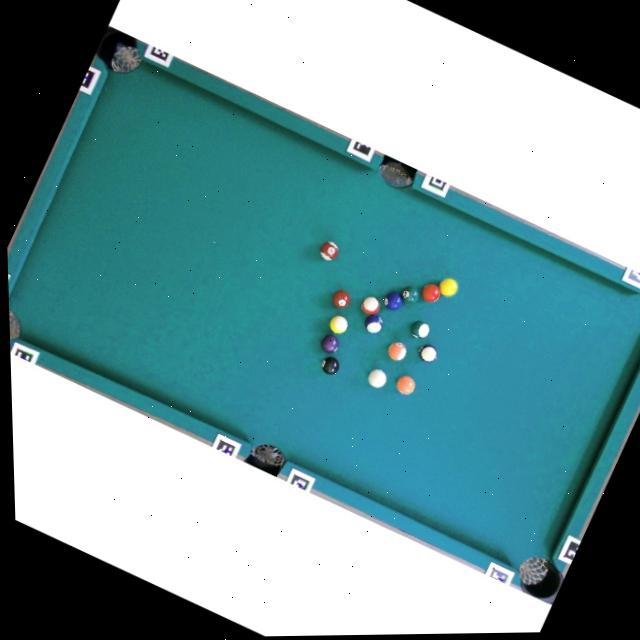cue ball: (364, 365, 390, 391)
other: (417, 280, 444, 306), (383, 338, 410, 364), (397, 281, 423, 308), (315, 238, 342, 264), (435, 274, 461, 300), (325, 311, 351, 337), (316, 331, 342, 356), (414, 341, 440, 366), (357, 293, 383, 318), (392, 372, 418, 397), (361, 311, 386, 336), (317, 353, 343, 377), (329, 286, 353, 312), (381, 288, 405, 313), (407, 317, 431, 342)
